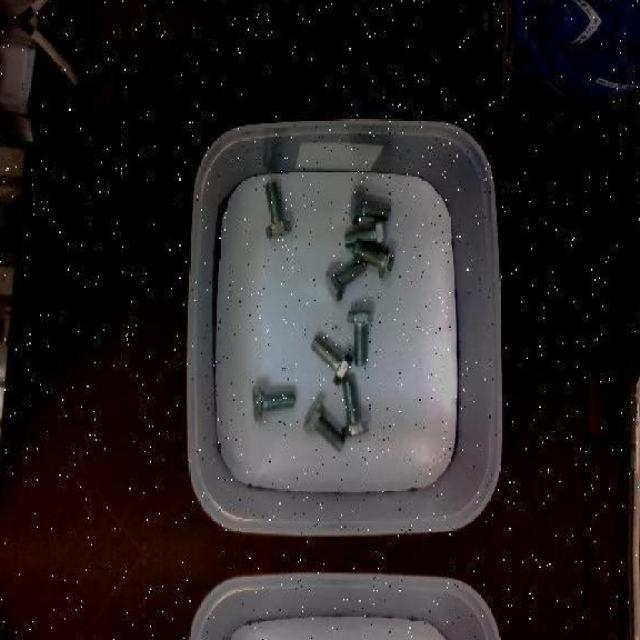screw: (310, 335, 353, 386), (302, 398, 344, 449), (336, 379, 370, 437), (351, 240, 395, 280), (326, 259, 366, 302), (251, 384, 293, 423), (265, 181, 291, 239), (346, 309, 372, 365), (349, 189, 390, 223)
